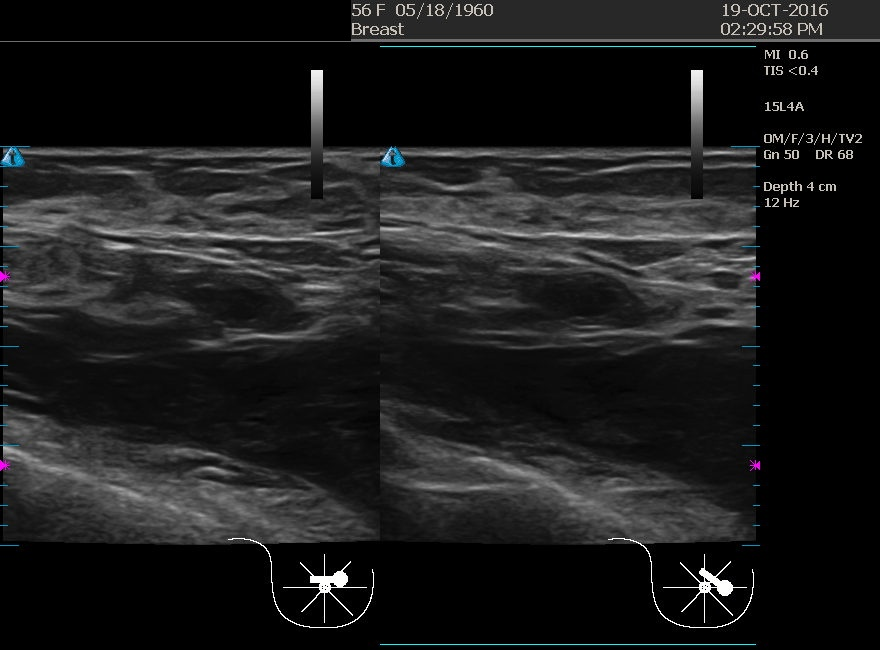BIRADS_3: (151, 204, 351, 404), (496, 207, 696, 407)
